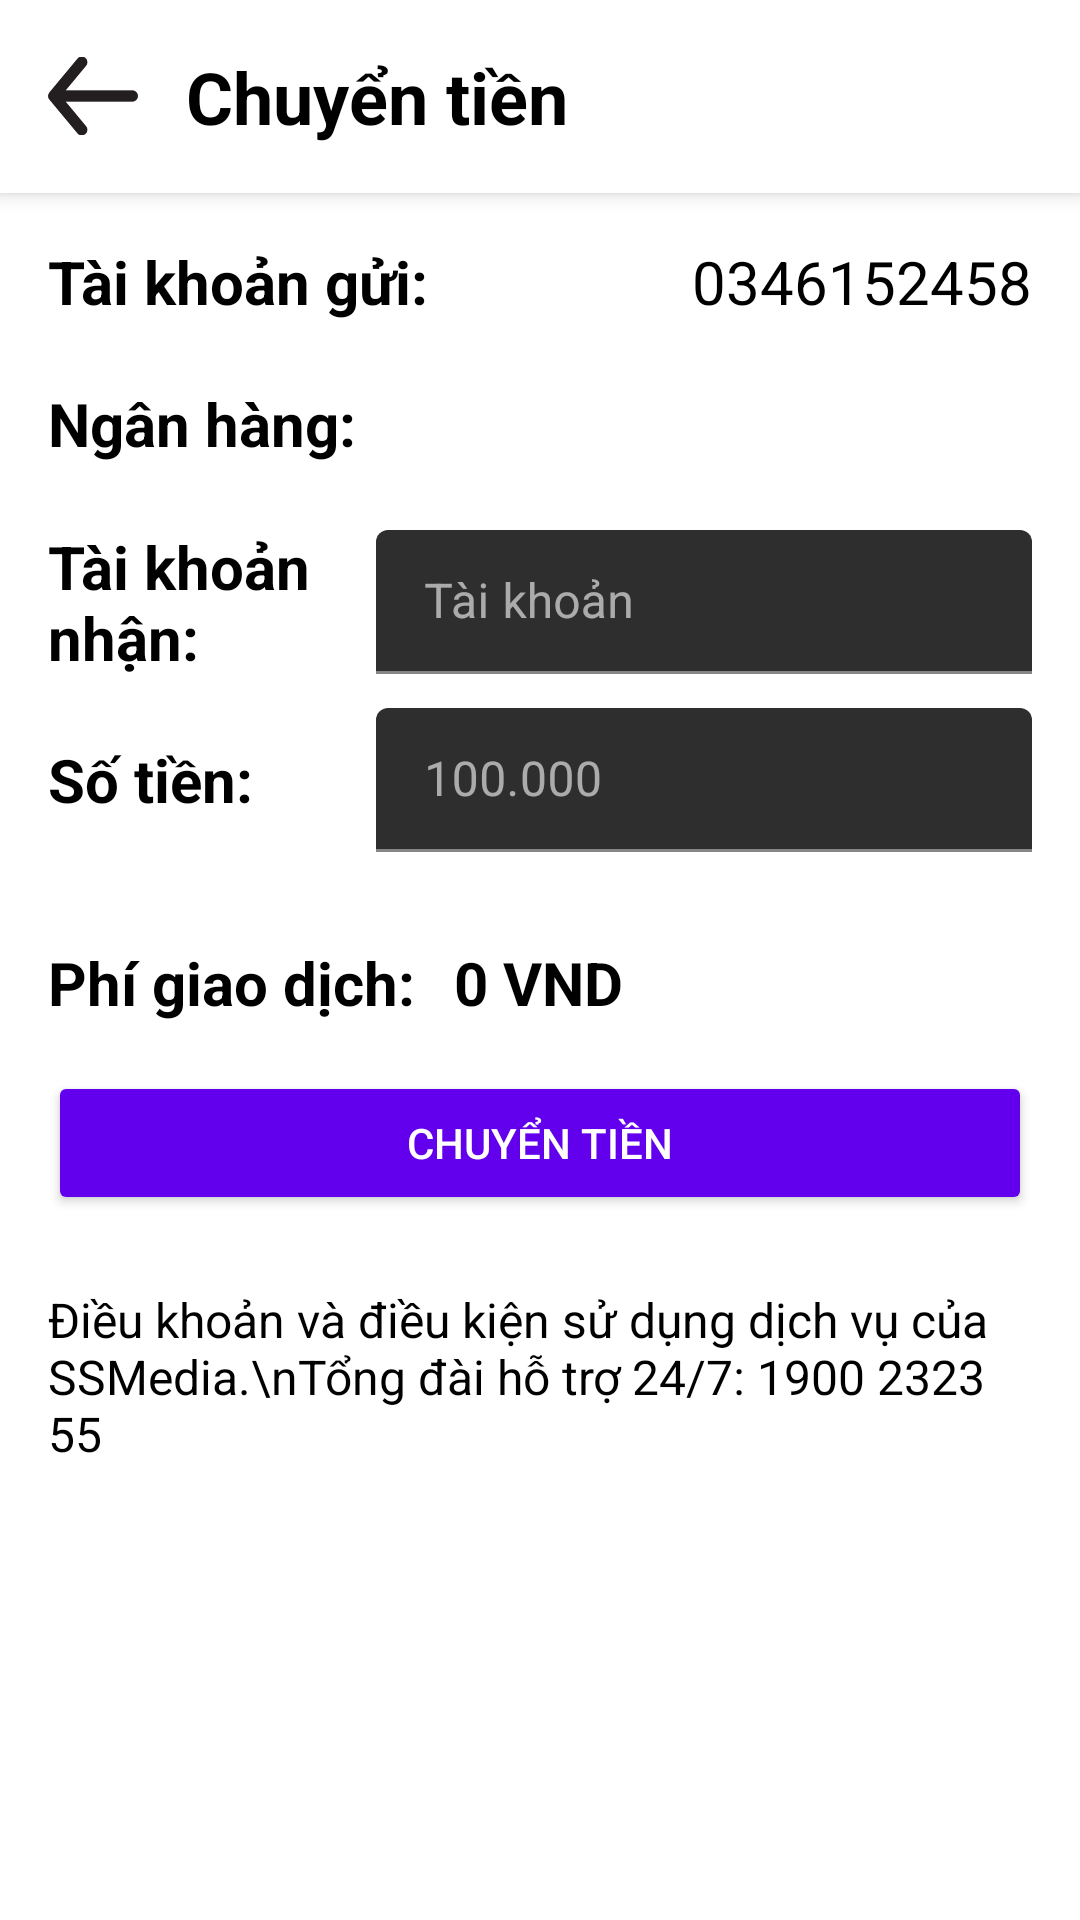

Named icons in this screenshot (1080*1920) and their bounding boxes, (x1, y1, x2, y2):
arrow back: (48, 57, 138, 135)
